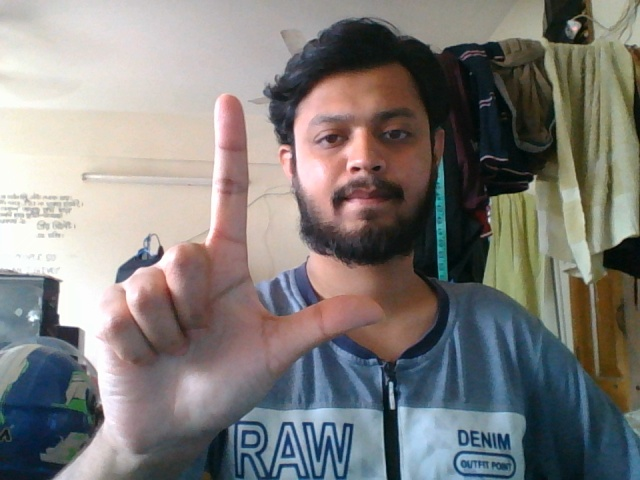la: (90, 90, 382, 473)
